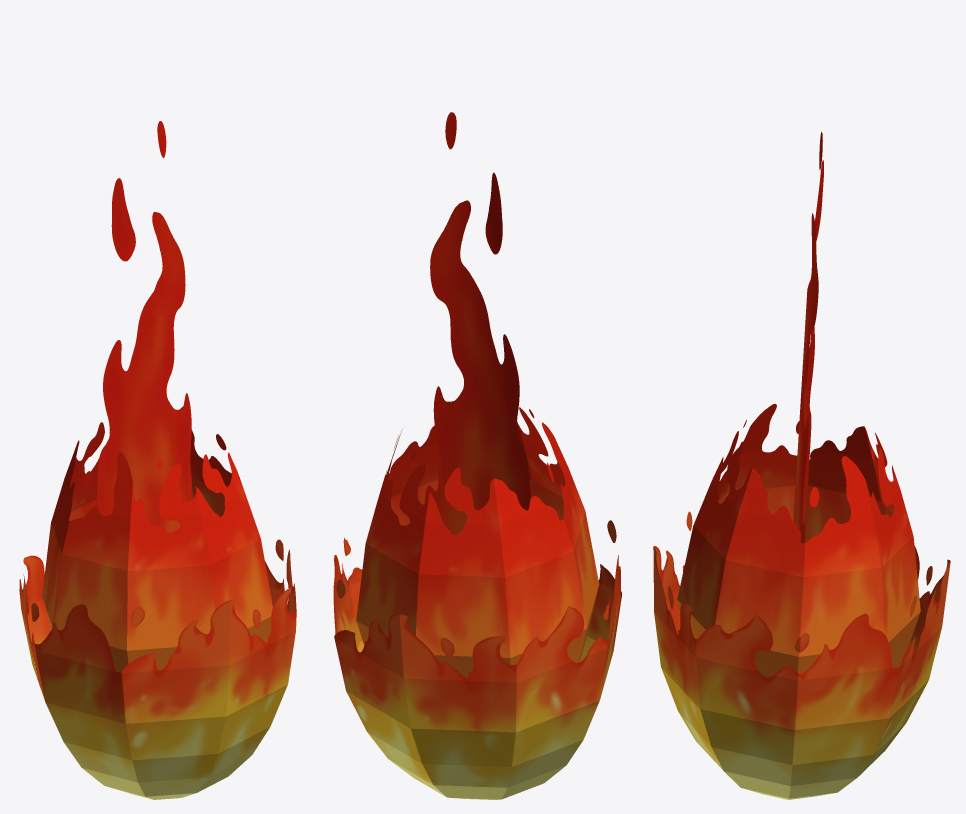
The model's file is CometRock.fbx.
The picture shows the model from 3 angles, left to right: view 1: azimuth 30°, elevation 25°; view 2: azimuth 150°, elevation 25°; view 3: azimuth 270°, elevation 25°; orthographic projection. The views are drawn at different scales.
Visible parts, largest first — view 1: pSphere3; view 2: pSphere3; view 3: pSphere3.
Part boxes in pixels (box(x1,y1,x2,y2)): pSphere3: box(19, 121, 296, 799); pSphere3: box(333, 112, 621, 799); pSphere3: box(653, 132, 950, 799).
Size of the model in its own units: 11.82 by 33.32 by 11.81.
